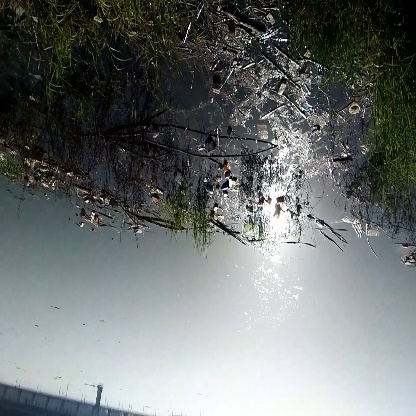branch: (151, 130, 282, 165)
